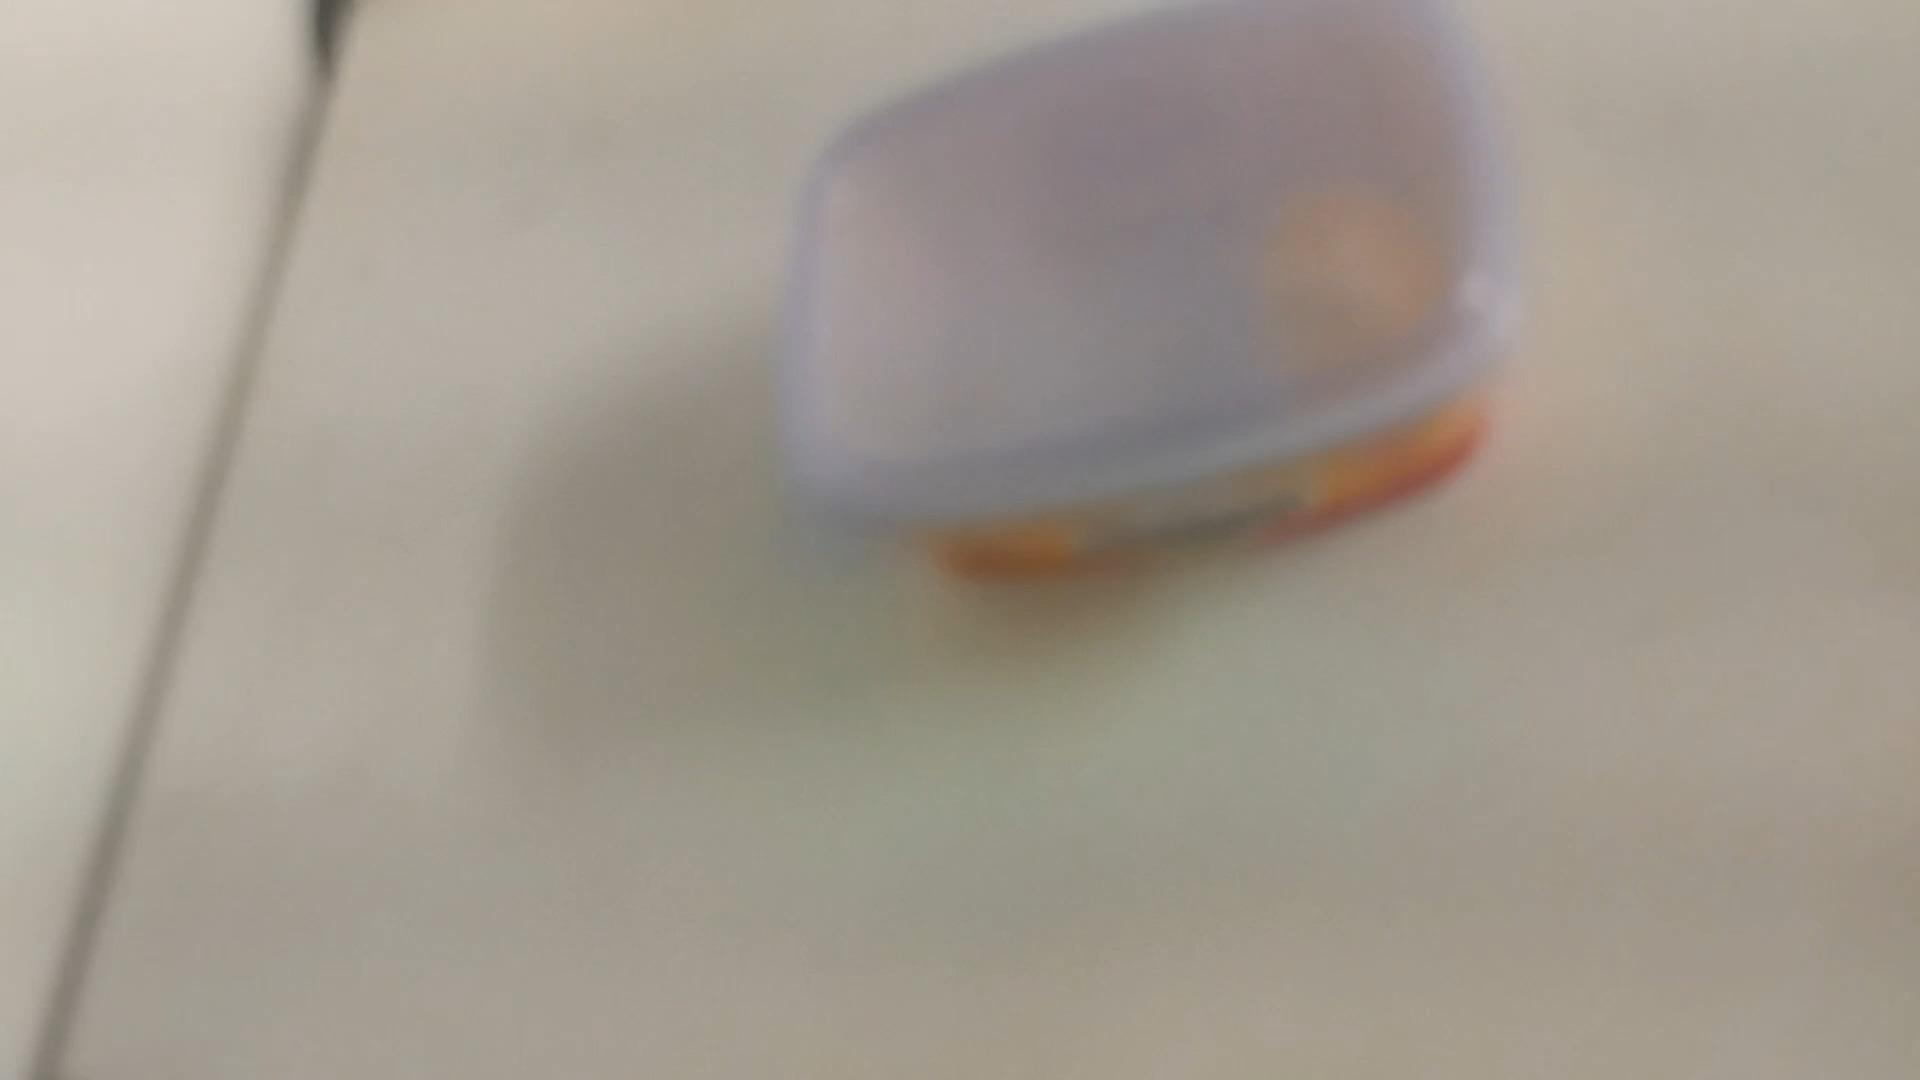butter: (769, 0, 1527, 592)
